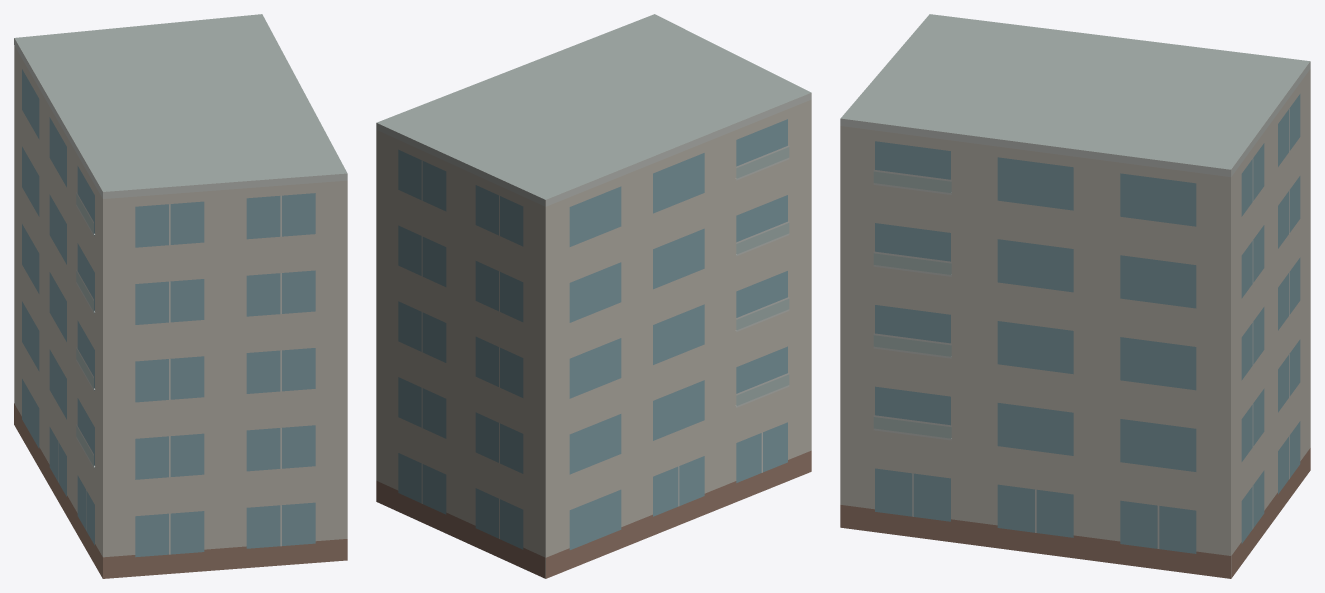
Rendered from survey-upis-32877800.glb.
3 renders of one model, left to right at view 1: azimuth 30°, elevation 25°; view 2: azimuth 150°, elevation 25°; view 3: azimuth 270°, elevation 25°, orthographic. The views are drawn at different scales.
Parts seen in each view (by area): view 1: survey-upis-32877800.tmp; view 2: survey-upis-32877800.tmp; view 3: survey-upis-32877800.tmp.
Part boxes in pixels (x1=…): survey-upis-32877800.tmp: x1=14, y1=14, x2=347, y2=578; survey-upis-32877800.tmp: x1=376, y1=14, x2=811, y2=578; survey-upis-32877800.tmp: x1=840, y1=14, x2=1310, y2=578.
Size of the model in its own units: 10.95 by 13.4 by 13.97.
